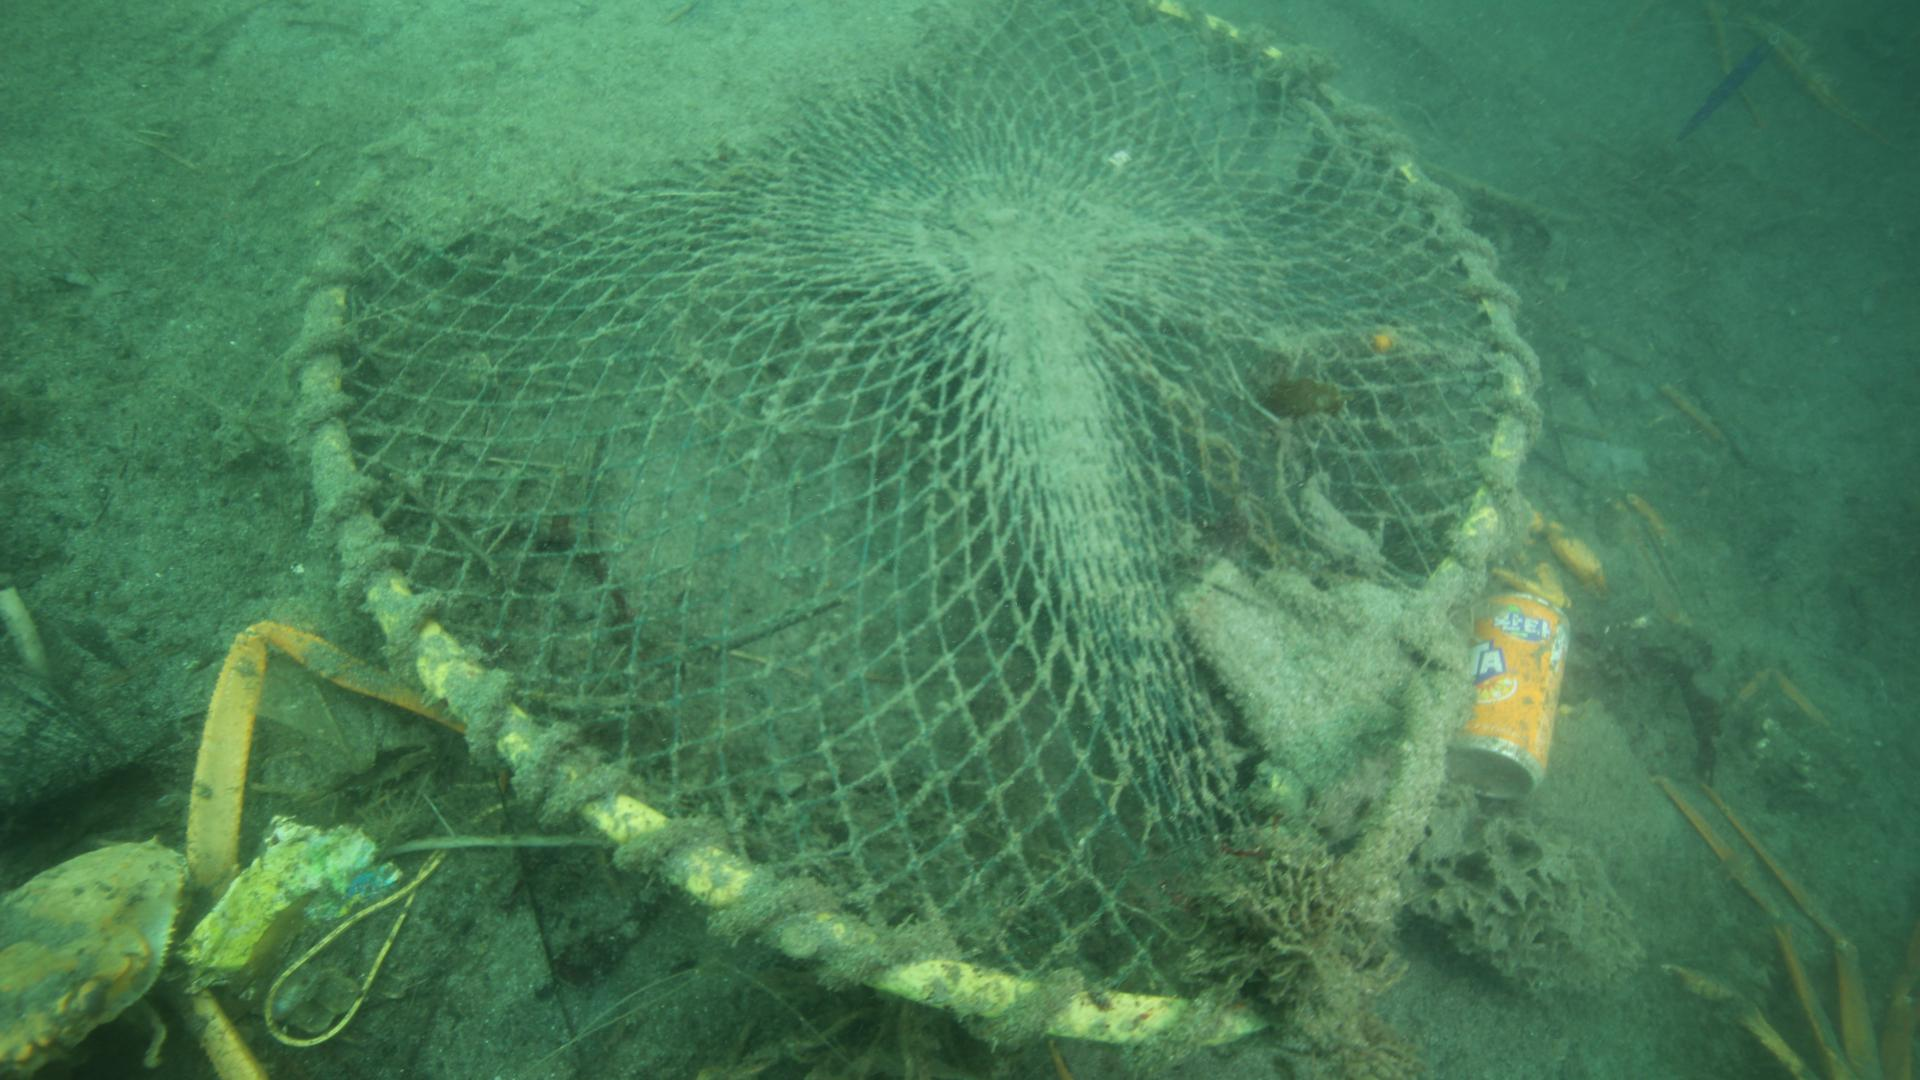circular fish trap: (295, 0, 1530, 1050)
